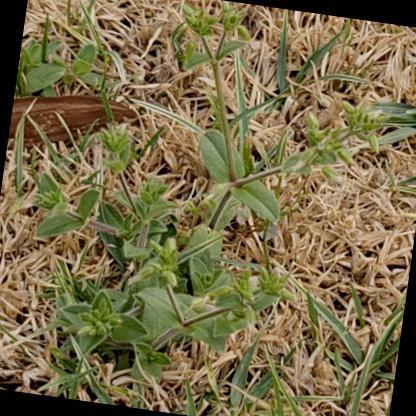Weeds: (11, 0, 409, 415), (13, 34, 114, 116)
